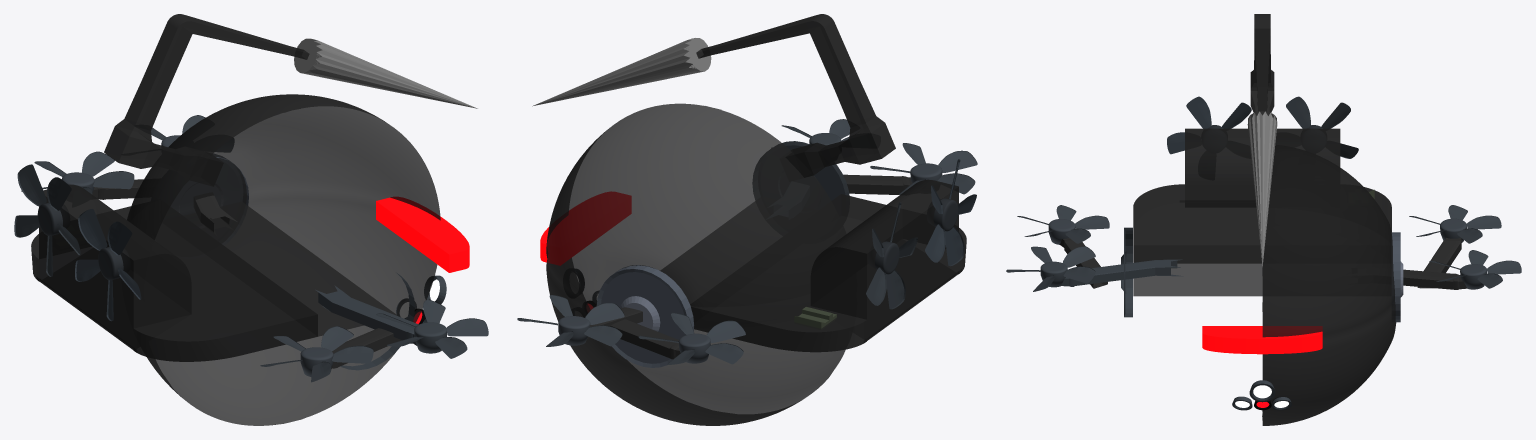
File: drone.glb
3 renders of one model, left to right at view 1: azimuth 30°, elevation 25°; view 2: azimuth 150°, elevation 25°; view 3: azimuth 270°, elevation 25°, orthographic. The views are drawn at different scales.
Visible parts, largest first — view 1: Sphere, Plane.001, Cube.004, Plane, Cone, Cylinder.008, Cylinder.005, Cube.001, Circle, Cylinder.004, Cylinder.011, Cylinder.010 (+9 smaller); view 2: Sphere, Plane.001, Cube.004, Circle, Cone, Plane, Circle.003, Cylinder.010, Cylinder.001, Cylinder.005, Cylinder.008, Cylinder.011 (+11 smaller); view 3: Sphere, Plane.001, Plane, Cone, Cube.004, Cube, Cube.001, Cylinder.004, Cylinder.008, Cylinder.005, Cylinder.001, Cylinder.010 (+9 smaller).
Part boxes in pixels (left/top/right/bottom): Sphere: left=127, top=94, right=440, bottom=425; Plane.001: left=31, top=184, right=398, bottom=361; Cube.004: left=104, top=14, right=309, bottom=186; Plane: left=376, top=197, right=469, bottom=272; Cone: left=294, top=38, right=477, bottom=108; Cylinder.008: left=75, top=209, right=141, bottom=321; Cylinder.005: left=14, top=164, right=80, bottom=276; Cube.001: left=315, top=285, right=418, bottom=345; Circle: left=171, top=154, right=248, bottom=245; Cylinder.004: left=376, top=299, right=488, bottom=358; Cylinder.011: left=260, top=326, right=373, bottom=382; Cylinder.010: left=21, top=151, right=134, bottom=194; Sphere: left=546, top=103, right=846, bottom=425; Plane.001: left=661, top=179, right=966, bottom=352; Cube.004: left=696, top=14, right=895, bottom=181; Circle: left=596, top=265, right=694, bottom=367; Cone: left=532, top=38, right=711, bottom=106; Plane: left=540, top=192, right=631, bottom=265; Circle.003: left=752, top=141, right=849, bottom=209; Cylinder.010: left=638, top=312, right=745, bottom=364; Cylinder.001: left=517, top=295, right=624, bottom=346; Cylinder.005: left=866, top=202, right=917, bottom=309; Cylinder.008: left=925, top=159, right=976, bottom=266; Cylinder.011: left=870, top=143, right=977, bottom=194; Sphere: left=1262, top=144, right=1396, bottom=425; Plane.001: left=1133, top=128, right=1391, bottom=296; Plane: left=1202, top=326, right=1322, bottom=354; Cone: left=1247, top=111, right=1277, bottom=267; Cube.004: left=1250, top=14, right=1274, bottom=164; Cube: left=1346, top=267, right=1467, bottom=289; Cube.001: left=1061, top=259, right=1183, bottom=286; Cylinder.004: left=1006, top=246, right=1095, bottom=291; Cylinder.008: left=1167, top=96, right=1251, bottom=154; Cylinder.005: left=1286, top=96, right=1358, bottom=158; Cylinder.001: left=1429, top=250, right=1521, bottom=288; Cylinder.010: left=1409, top=205, right=1501, bottom=243.
Bounding box in the file's own units: 1.66 × 1.66 × 2.2.
